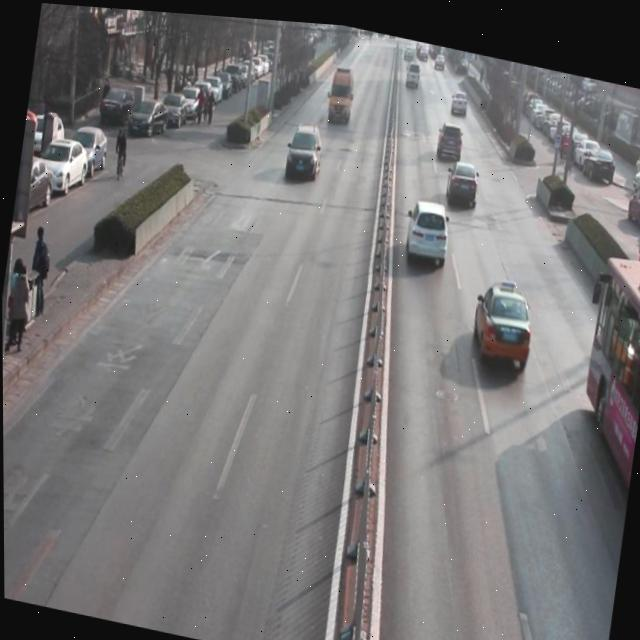car: (467, 269, 541, 371), (402, 188, 455, 272), (284, 116, 323, 180), (442, 149, 485, 205), (434, 116, 466, 159), (448, 82, 470, 111)
truck: (324, 58, 360, 129), (405, 54, 423, 87)
van: (562, 242, 640, 519)
